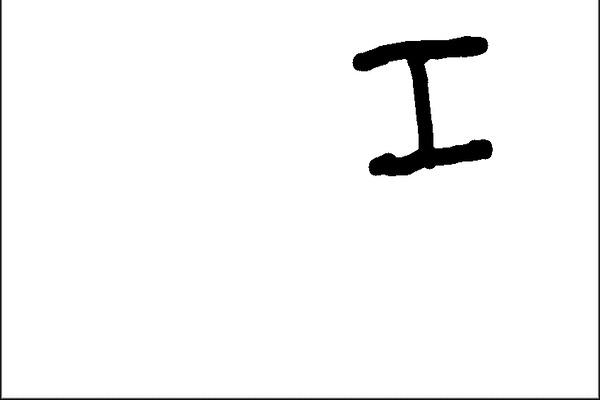i: (340, 23, 503, 186)
